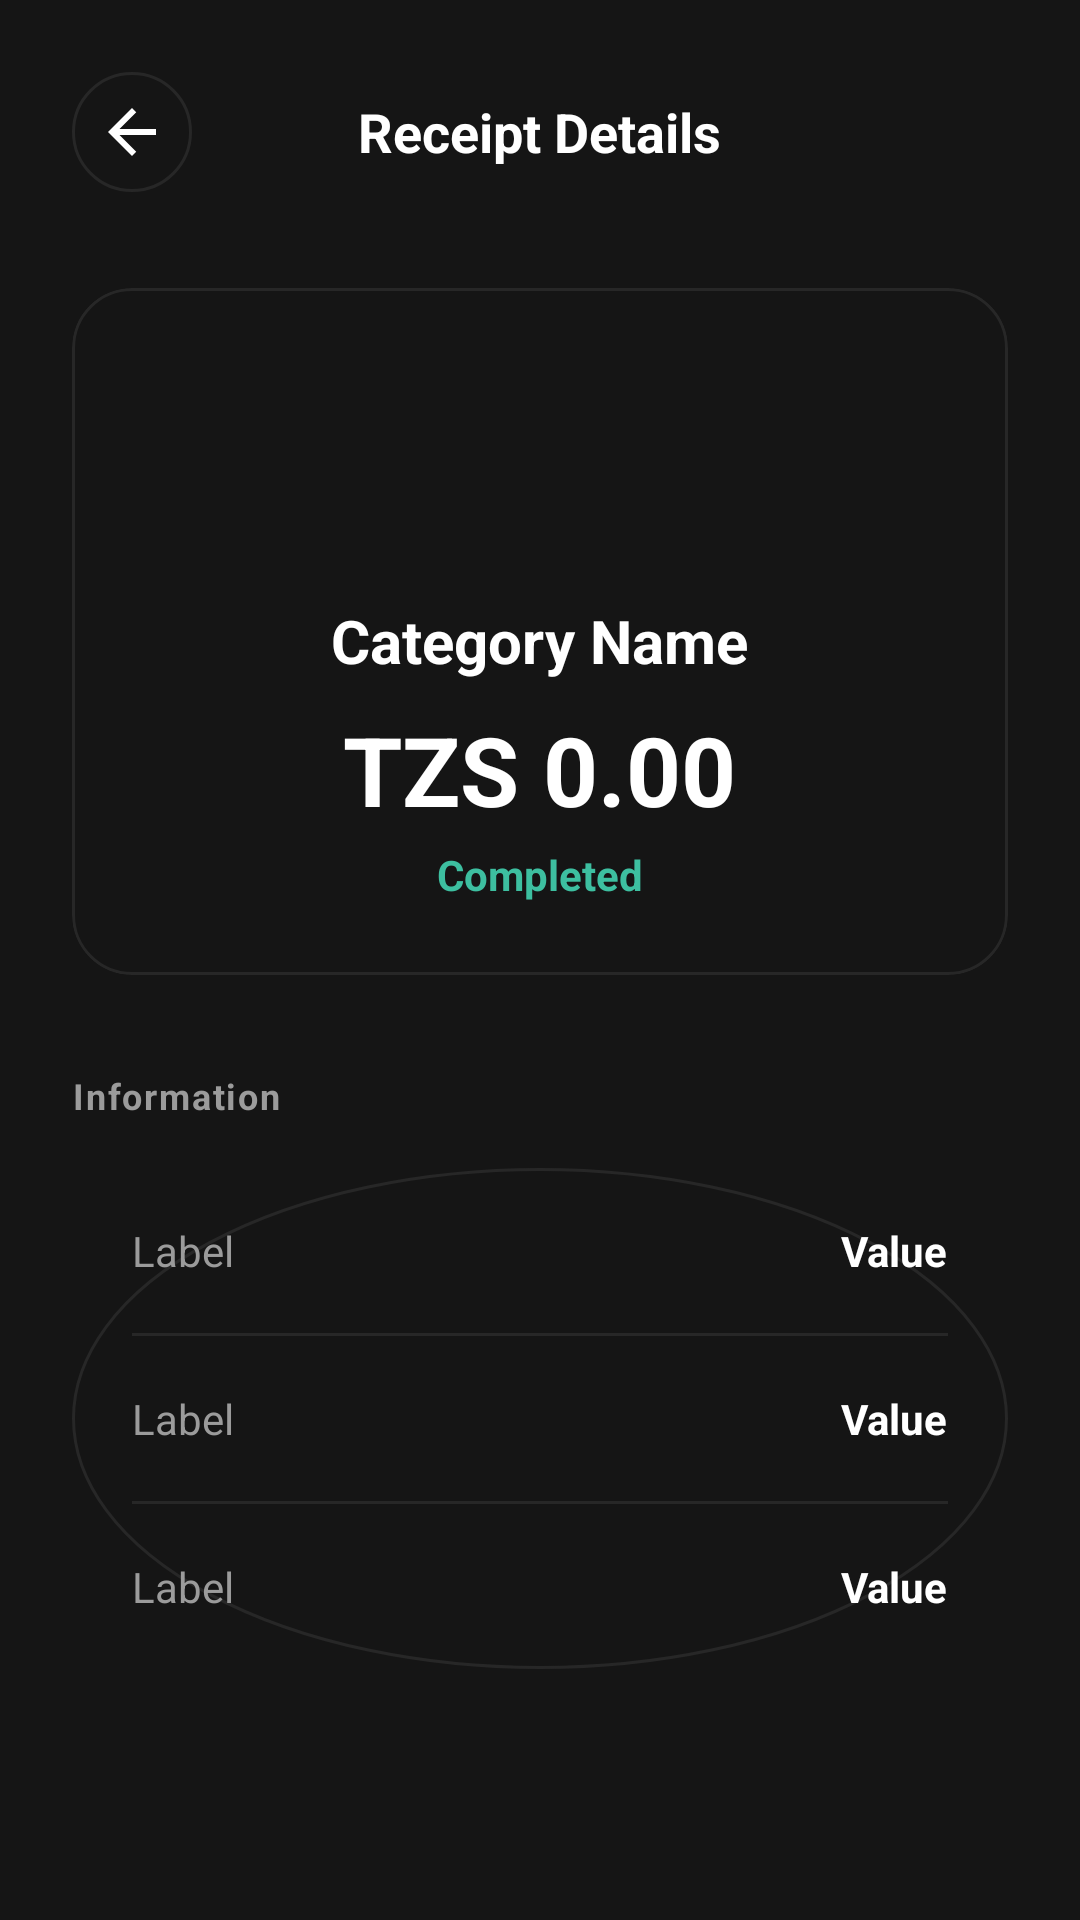

Icon bounding boxes for this 1080 × 1920 phone screenshot, format (x1, y1, x2, y2):
arrow back: (108, 108, 156, 156)
